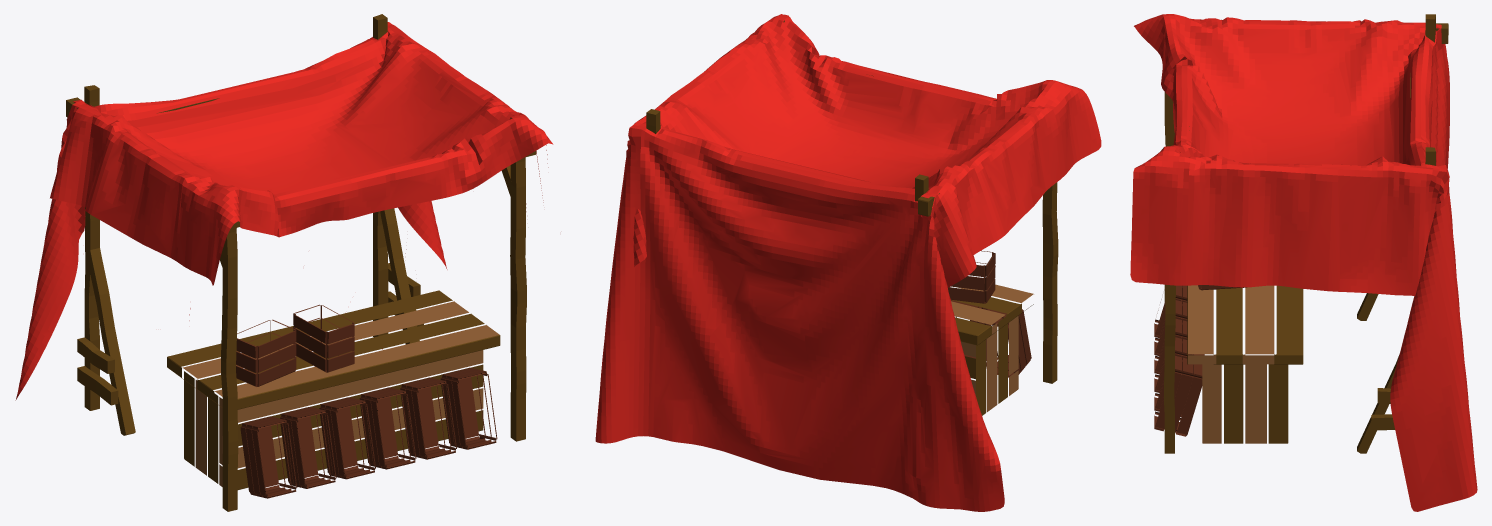
Rendered from rehri.gltf.
3 renders of one model, left to right at view 1: azimuth 30°, elevation 25°; view 2: azimuth 150°, elevation 25°; view 3: azimuth 270°, elevation 25°, orthographic. The views are drawn at different scales.
Visible parts, largest first — view 1: rehri; view 2: rehri; view 3: rehri.
Boxes of the visible parts, x1=… form: rehri: x1=15, y1=14, x2=553, y2=511; rehri: x1=595, y1=14, x2=1101, y2=511; rehri: x1=1130, y1=14, x2=1477, y2=511.
Bounding box in the file's own units: 864 × 722 × 658.
